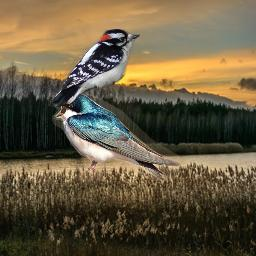Swallow: (52, 90, 182, 181)
Woodpecker: (48, 29, 140, 107)
